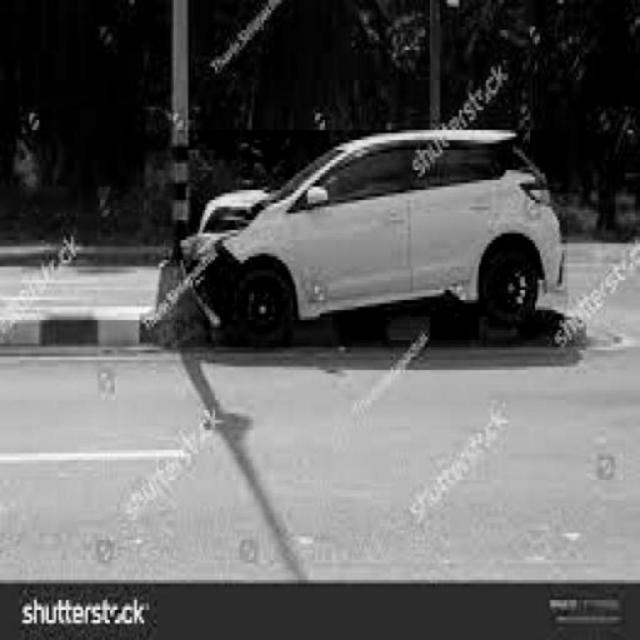accident: (177, 131, 568, 348)
